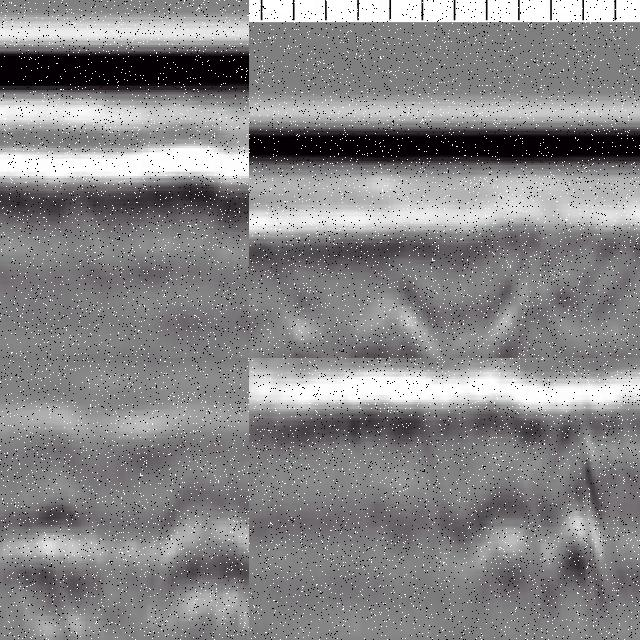loose: (452, 368, 640, 602), (1, 475, 250, 631), (351, 240, 640, 359)
